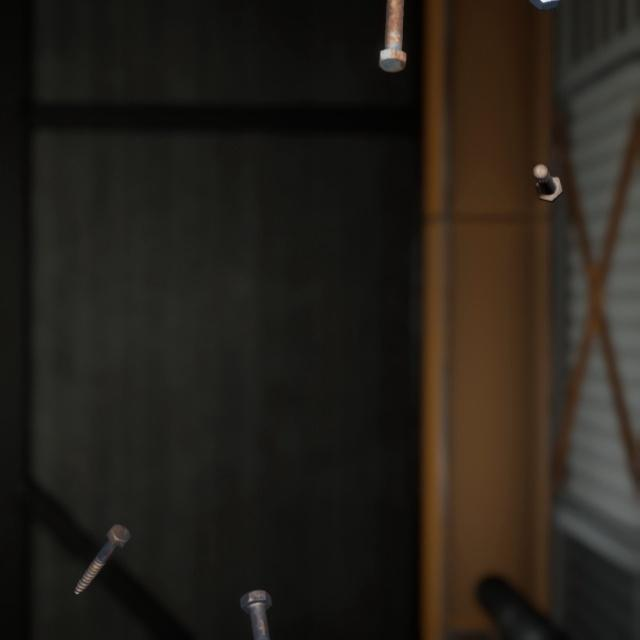bolt: (69, 496, 135, 576), (235, 561, 278, 640), (374, 0, 411, 70), (528, 145, 567, 193)
